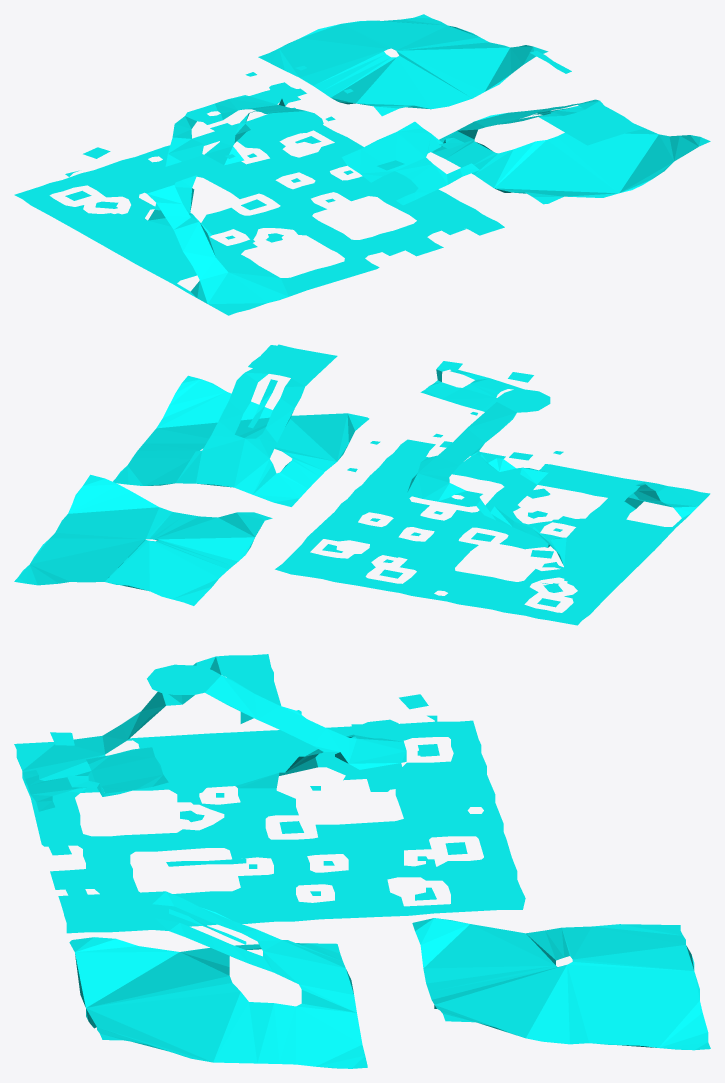
3 renders of one model, top to bottom at view 1: azimuth 30°, elevation 25°; view 2: azimuth 150°, elevation 25°; view 3: azimuth 270°, elevation 25°, orthographic. The views are drawn at different scales.
Parts seen in each view (by area): view 1: Tile 0; view 2: Tile 0; view 3: Tile 0.
Part boxes in pixels (left/top/right/bottom): Tile 0: left=14, top=14, right=710, bottom=315; Tile 0: left=14, top=344, right=710, bottom=625; Tile 0: left=14, top=654, right=710, bottom=1068.
Size of the model in its own units: 89.7 by 19 by 75.6.
